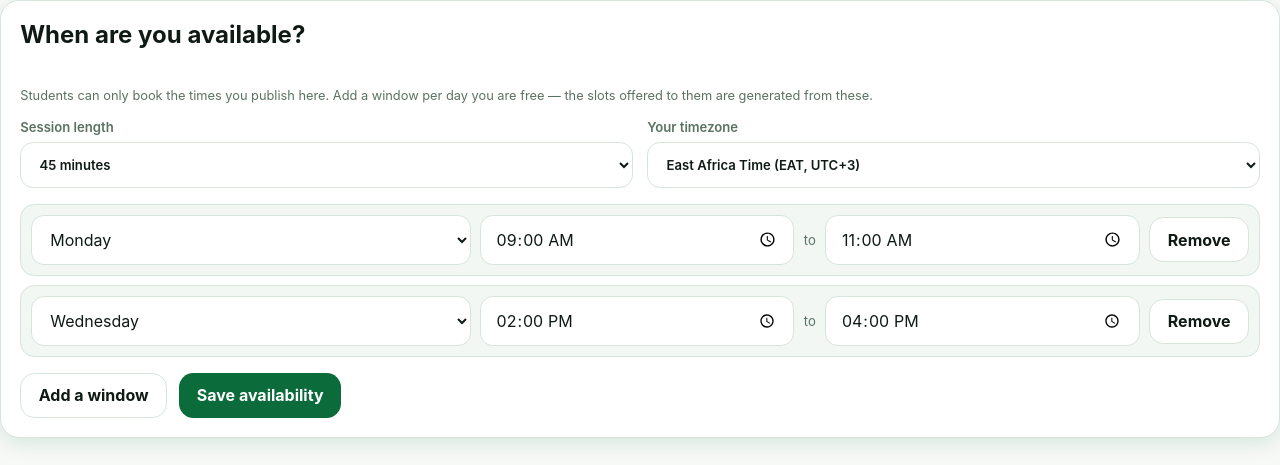
Test case: AvailabilityEditor › saves the whole week, including removals, in one request
Click the button with aria-label "Remove Monday window" at x=1199, y=240, box [1149, 217, 1249, 262]
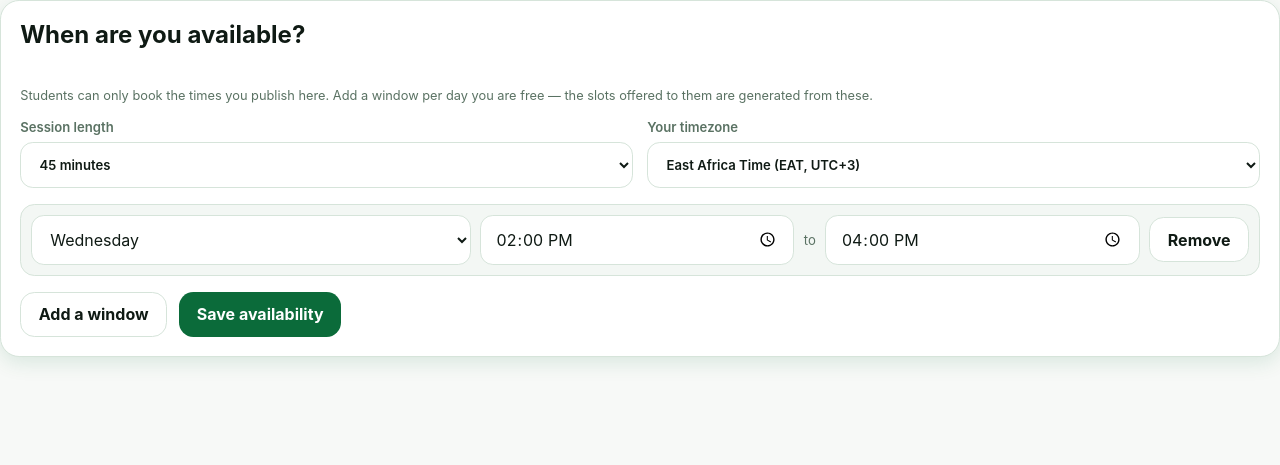
Click the button "Save availability" at x=260, y=314, box [179, 292, 341, 337]
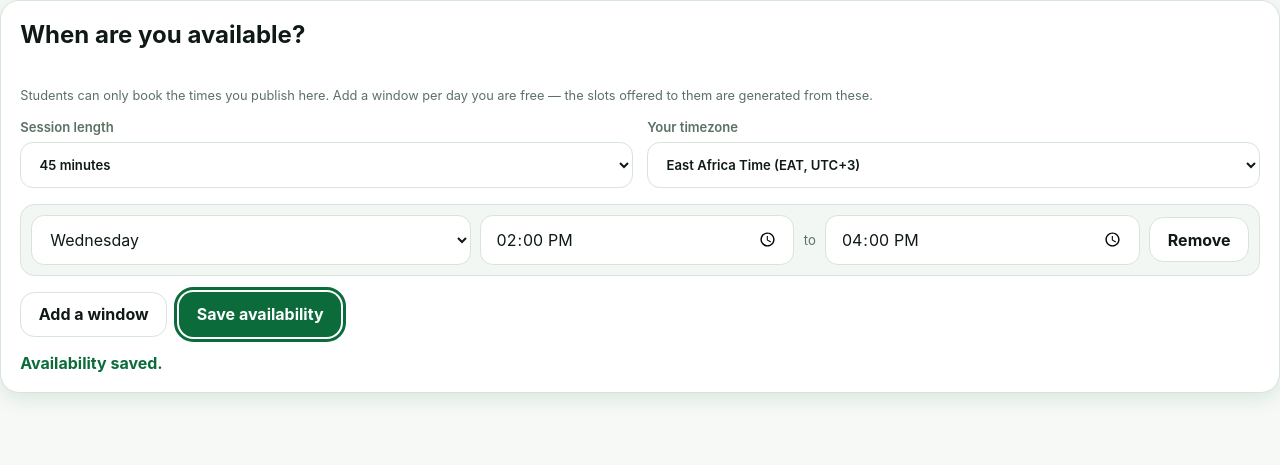
Result: the text "Availability saved." is shown at [20, 353, 163, 373]
